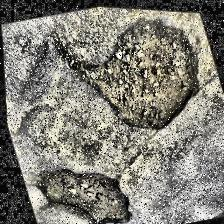pothole: (53, 3, 217, 152), (28, 150, 134, 224)
